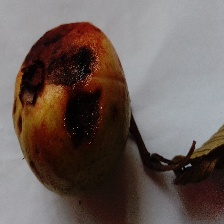guava: (41, 41, 224, 193)
